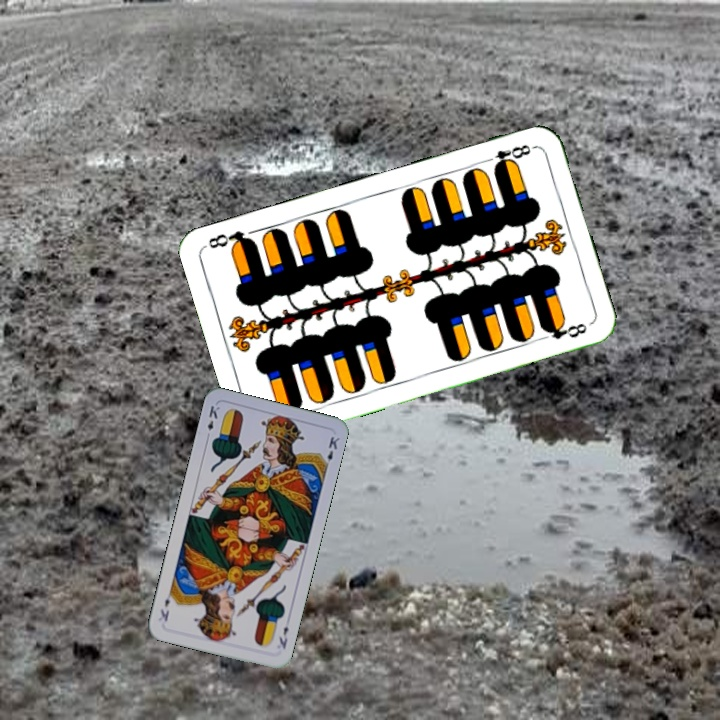E8: (479, 140, 538, 172)
EK: (202, 401, 222, 442), (275, 622, 291, 651)
